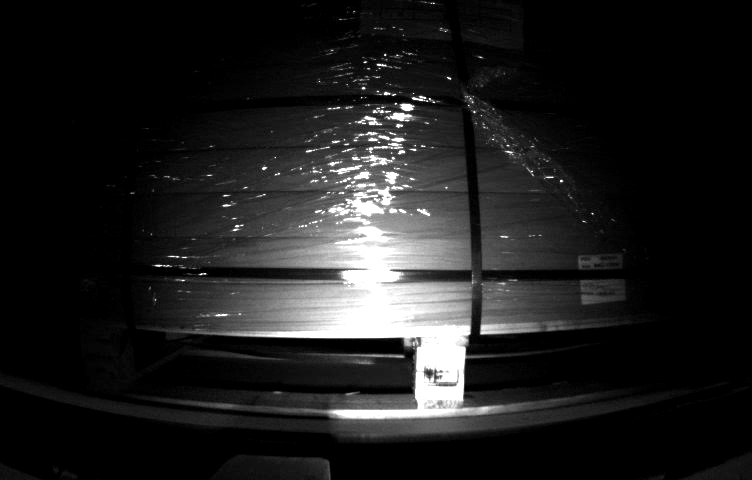True Barcode: (576, 253, 629, 304)
